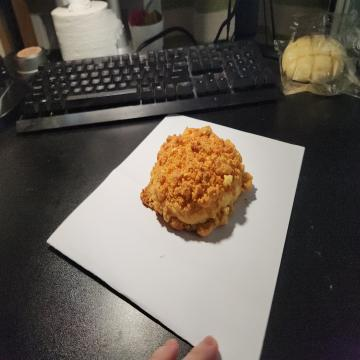soboru_bread: (140, 125, 252, 236)
